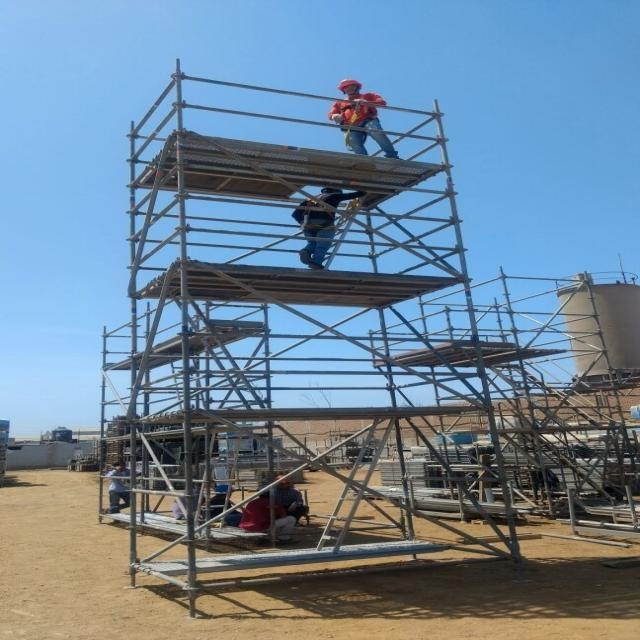Arnes_seguridad: (303, 193, 340, 229), (343, 100, 373, 137)
